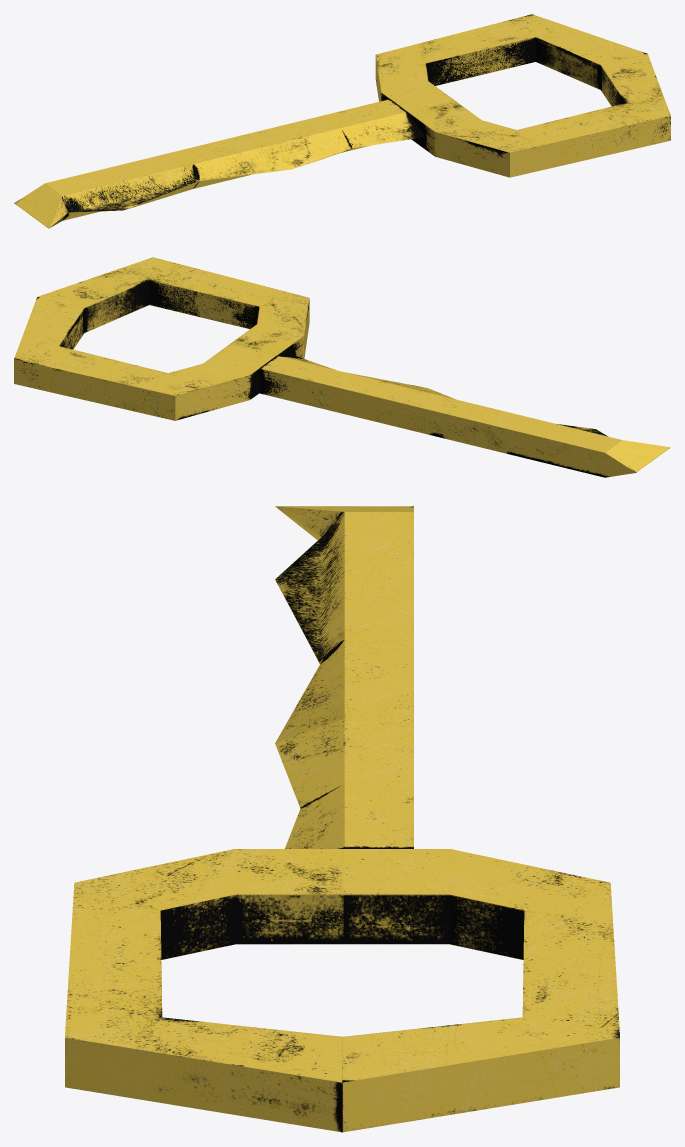
The model's file is KeyT.fbx.
3 views of the same model, one above another, from view 1: azimuth 30°, elevation 25°; view 2: azimuth 150°, elevation 25°; view 3: azimuth 270°, elevation 25° (orthographic). The views are drawn at different scales.
Visible parts, largest first — view 1: Plane; view 2: Plane; view 3: Plane.
Part boxes in pixels (x1=…): Plane: x1=14, y1=14, x2=670, y2=228; Plane: x1=14, y1=257, x2=670, y2=477; Plane: x1=65, y1=506, x2=619, y2=1132.
Bounding box in the file's own units: 290 × 11.19 × 113.
1 material, 1 textured.
